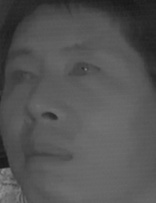eye: (64, 58, 104, 81), (6, 67, 38, 87)
mouth: (17, 136, 74, 171)
